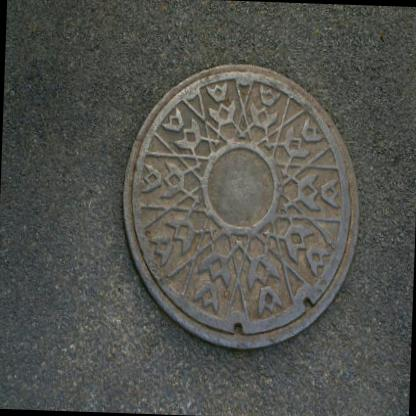manholes: (102, 43, 390, 400)
